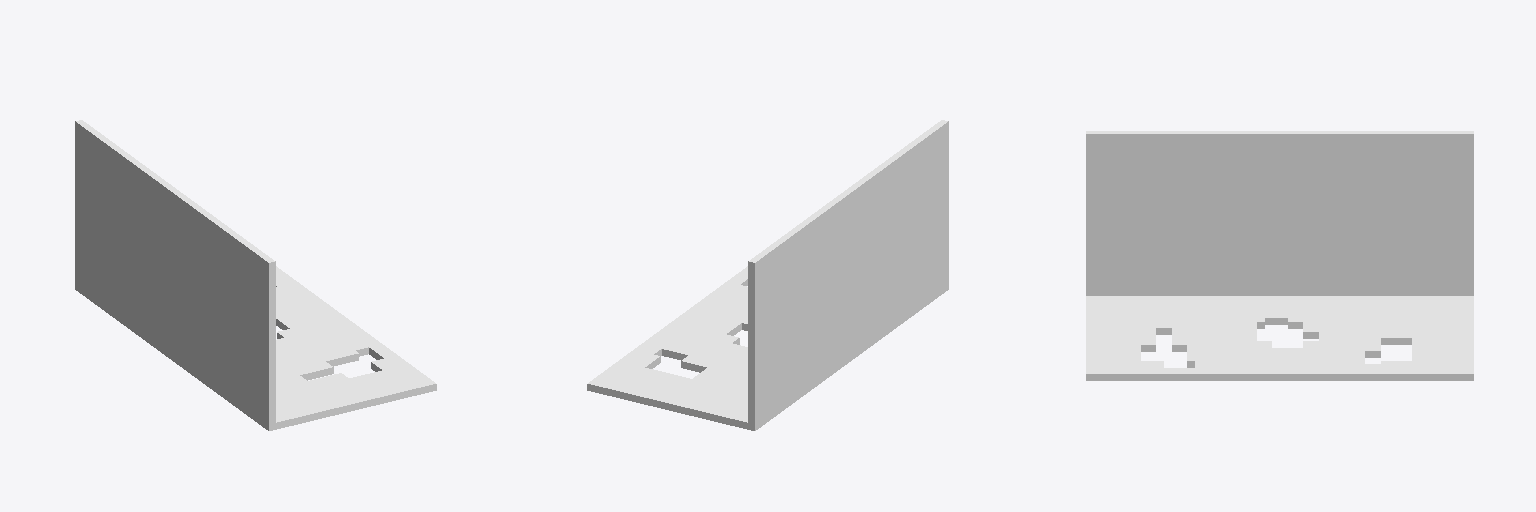
File: Menu_Main_Outside_Cell.obj
3 renders of one model, left to right at view 1: azimuth 30°, elevation 25°; view 2: azimuth 150°, elevation 25°; view 3: azimuth 270°, elevation 25°, orthographic.
Bounding box in the file's own units: 25 × 24 × 50.